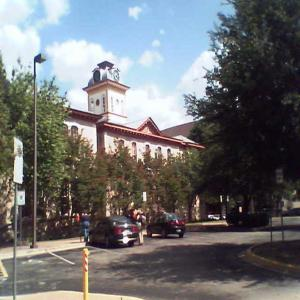Vehicle-registration-plate: (125, 232, 132, 236)
